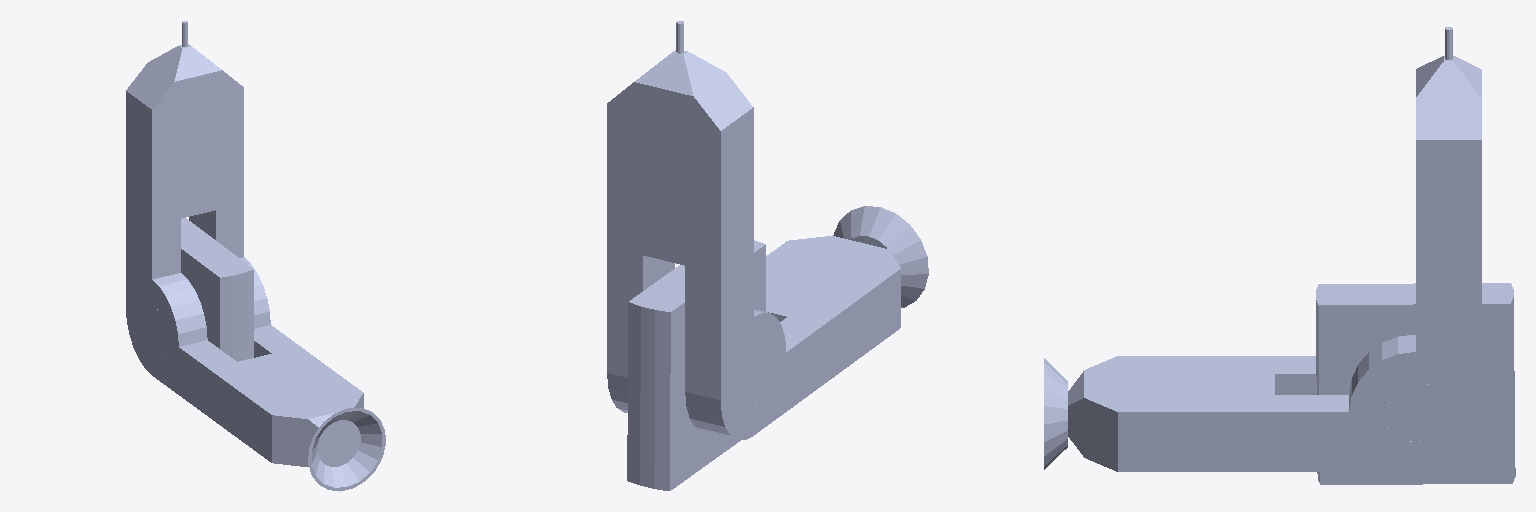
The robot description file, URDF, robot "justool":
<?xml version="1.0" encoding="utf-8"?>
<!-- This URDF was automatically created by SolidWorks to URDF Exporter! Originally created by [author] ([email redacted]) 
     Commit Version: 1.6.0-4-g7f85cfe  Build Version: 1.6.7995.38578
     For more information, please see http://wiki.ros.org/sw_urdf_exporter -->
<robot
  name="justool">
  <link
    name="base_tool">
    <inertial>
      <origin
        xyz="3.23928900433173E-19 -0.000280672781129251 0.0299986870177669"
        rpy="0 0 0" />
      <mass
        value="0.061286086776219" />
      <inertia
        ixx="3.21208626920349E-05"
        ixy="1.00820073326552E-21"
        ixz="4.21091576797561E-22"
        iyy="1.88064093158723E-05"
        iyz="3.09755144245559E-09"
        izz="1.84753678032904E-05" />
    </inertial>
    <visual>
      <origin
        xyz="0 0 0"
        rpy="0 0 0" />
      <geometry>
        <mesh
          filename="package://justool/meshes/base_link.dae" />
      </geometry>
      <material
        name="">
        <color
          rgba="0.792156862745098 0.819607843137255 0.933333333333333 1" />
      </material>
    </visual>
    <collision>
      <origin
        xyz="0 0 0"
        rpy="0 0 0" />
      <geometry>
        <mesh
          filename="package://justool/meshes/base_link.dae" />
      </geometry>
    </collision>
  </link>
  <link
    name="tool_link">
    <inertial>
      <origin
        xyz="0.0215098182497306 -0.0215937309664561 3.07442347451494E-18"
        rpy="0 0 0" />
      <mass
        value="0.142304957900483" />
      <inertia
        ixx="0.000231705805927366"
        ixy="-0.0001397982973575"
        ixz="1.20280331758759E-20"
        iyy="0.000222407877317925"
        iyz="-8.51817071062925E-21"
        izz="0.000411131910440016" />
    </inertial>
    <visual>
      <origin
        xyz="0 0 0"
        rpy="0 0 0" />
      <geometry>
        <mesh
          filename="package://justool/meshes/tool_link.dae" />
      </geometry>
      <material
        name="">
        <color
          rgba="0.792156862745098 0.819607843137255 0.933333333333333 1" />
      </material>
    </visual>
    <collision>
      <origin
        xyz="0 0 0"
        rpy="0 0 0" />
      <geometry>
        <mesh
          filename="package://justool/meshes/tool_link.dae" />
      </geometry>
    </collision>
  </link>
  <joint
    name="tool_joint"
    type="revolute">
    <origin
      xyz="0 -0.00028067 0.029999"
      rpy="1.5708 -1.5614 -1.5708" />
    <parent
      link="base_tool" />
    <child
      link="tool_link" />
    <axis
      xyz="0 0 1" />
    <limit effort="28.0" lower="-6.28318530718" upper="6.28318530718" velocity="6.28"/>
  </joint>
  <transmission name="trans_tool_joint">
        <type>transmission_interface/SimpleTransmission</type>
        <joint name="tool_joint">
            <hardwareInterface>hardware_interface/EffortJointInterface</hardwareInterface>
        </joint>
        <actuator name="tool_joint_motor">
            <hardwareInterface>hardware_interface/EffortJointInterface</hardwareInterface>
            <mechanicalReduction>1</mechanicalReduction>
        </actuator>
    </transmission>
</robot>

--- Facts derived from the render (not from the file) ---
Views: 3 orthographic renders of the robot side by side, from view 1: azimuth 30°, elevation 25°; view 2: azimuth 150°, elevation 25°; view 3: azimuth 270°, elevation 25°.
Model justool with 2 links and 1 joints (1 revolute), rooted at base_tool, posed every joint at zero.
Links seen in each view (by area): view 1: tool_link, base_tool; view 2: tool_link, base_tool; view 3: tool_link, base_tool.
Boxes of the visible links, left/top/right/bottom form: tool_link: left=126, top=21, right=385, bottom=491; base_tool: left=139, top=218, right=253, bottom=361; tool_link: left=607, top=21, right=928, bottom=439; base_tool: left=627, top=240, right=769, bottom=490; tool_link: left=1044, top=27, right=1481, bottom=471; base_tool: left=1316, top=283, right=1515, bottom=484.
Size in the robot's own frame: 0.04 by 0.1422 by 0.1488 metres.
Meshes: 2 distinct files referenced, 2 mesh visuals loaded (2 Collada DAE).